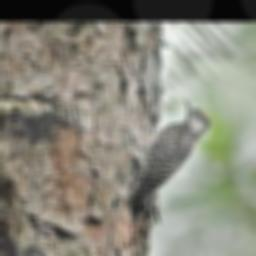Woodpecker: (123, 92, 210, 217)
